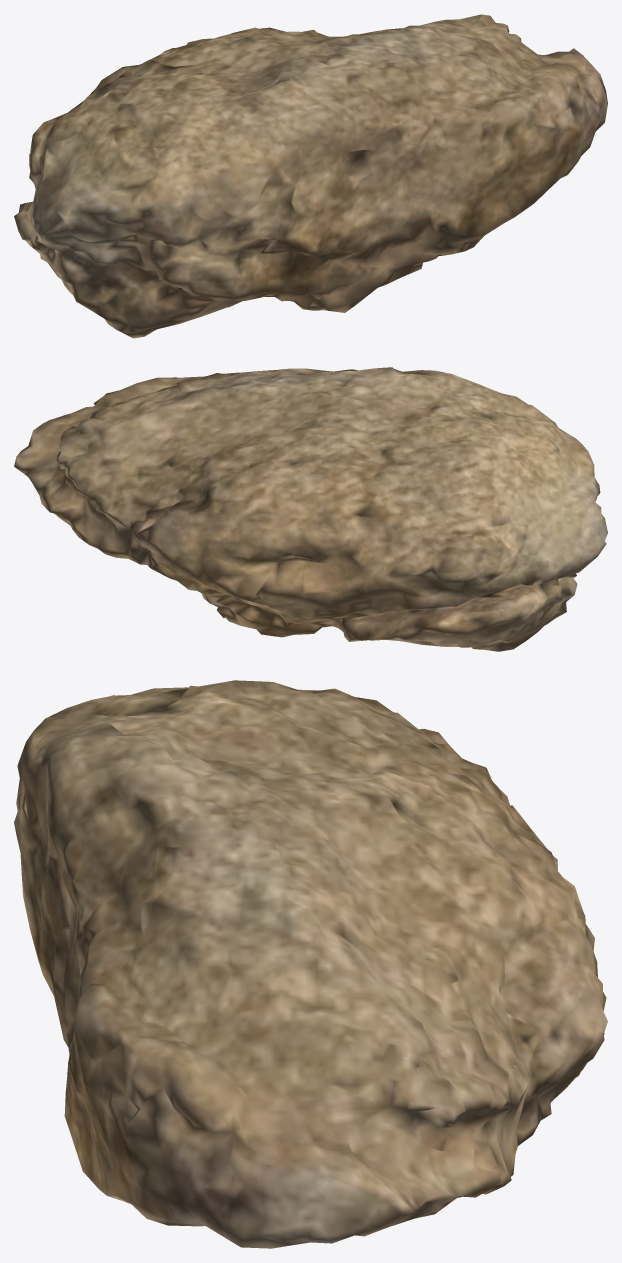
The model's file is ph-namaqualand-boulder-05.lod1.glb.
3 views of the same model, one above another, from view 1: azimuth 30°, elevation 25°; view 2: azimuth 150°, elevation 25°; view 3: azimuth 270°, elevation 25° (orthographic). The views are drawn at different scales.
Visible parts, largest first — view 1: namaqualand_boulder_05; view 2: namaqualand_boulder_05; view 3: namaqualand_boulder_05.
Part boxes in pixels (x1,y1,x2,y2): namaqualand_boulder_05: (14, 14, 607, 338); namaqualand_boulder_05: (14, 367, 607, 651); namaqualand_boulder_05: (14, 680, 607, 1248).
Bounding box in the file's own units: 1.36 × 0.5337 × 0.7481.
Materials: 1 (1 with a texture image).
